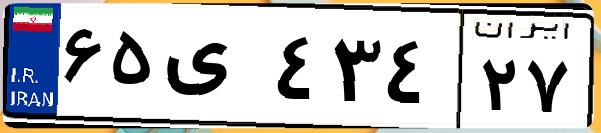2: (475, 38, 525, 113)
3: (330, 28, 385, 110)
4: (270, 28, 330, 110), (385, 28, 445, 110)
5: (110, 28, 158, 98)
6: (57, 26, 110, 100)
7: (525, 38, 570, 115)
ی: (158, 20, 270, 120)
